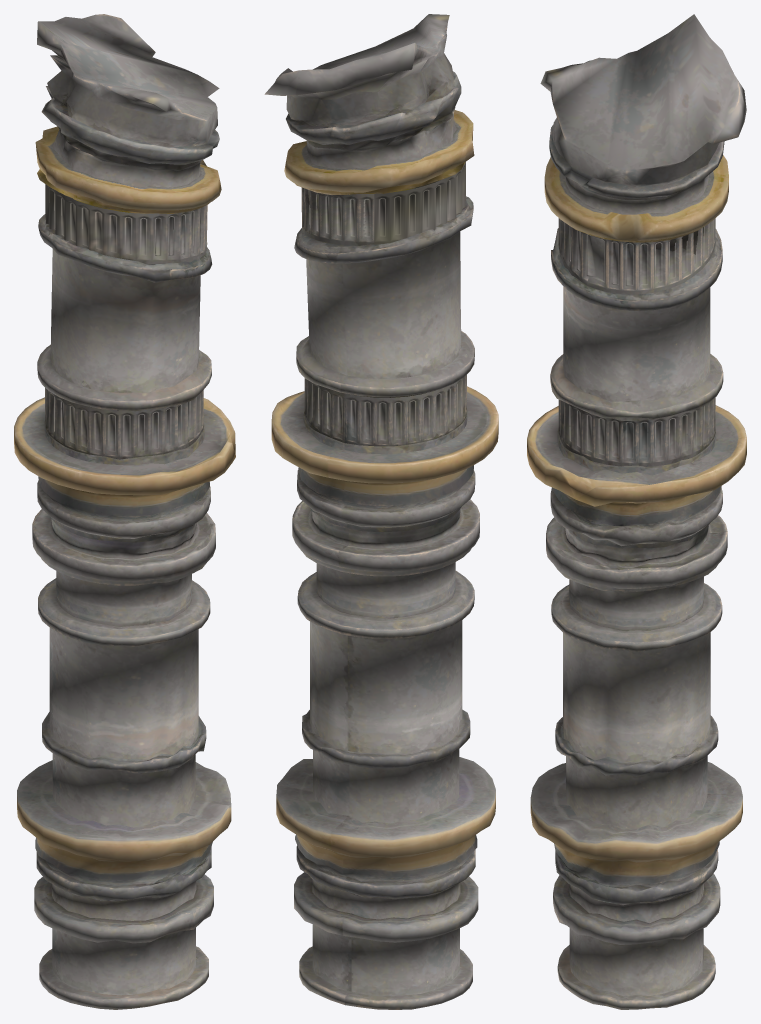
3 views of the same model, side by side, from view 1: azimuth 30°, elevation 25°; view 2: azimuth 150°, elevation 25°; view 3: azimuth 270°, elevation 25° (orthographic). The views are drawn at different scales.
Parts seen in each view (by area): view 1: 柱子.009; view 2: 柱子.009; view 3: 柱子.009.
Part boxes in pixels (left/top/right/bottom): 柱子.009: left=14, top=14, right=235, bottom=1009; 柱子.009: left=264, top=14, right=498, bottom=1009; 柱子.009: left=527, top=14, right=746, bottom=1009.
Size of the model in its own units: 2055 by 9683 by 2068.
